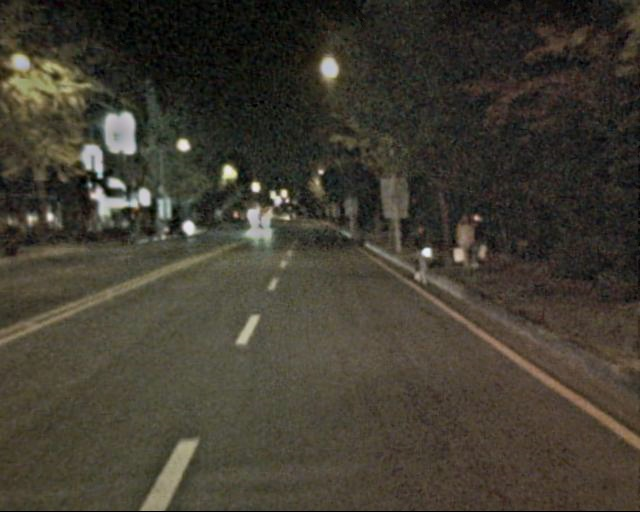person: (407, 224, 436, 287), (454, 217, 479, 273), (469, 214, 492, 273)
